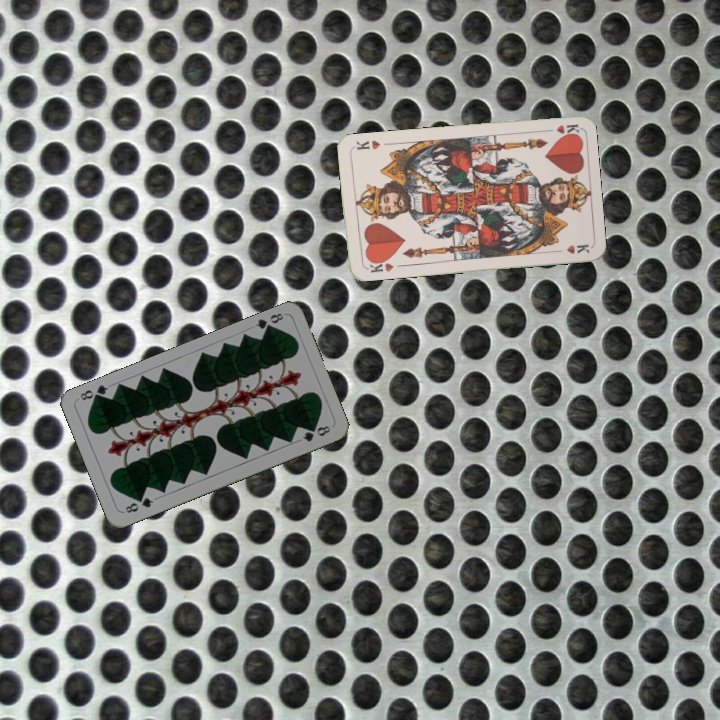G8: (252, 309, 286, 335), (121, 493, 156, 516)
HK: (539, 120, 580, 138), (362, 255, 396, 275)
